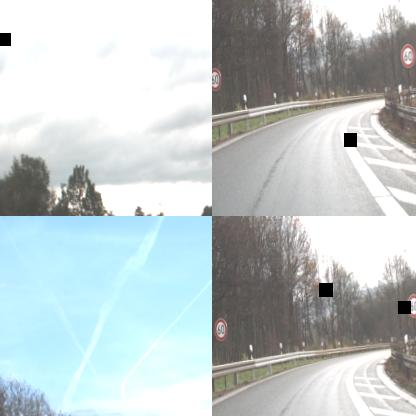speed limit 60: (400, 43, 416, 68), (213, 318, 228, 342), (406, 293, 416, 318), (212, 67, 221, 91)
